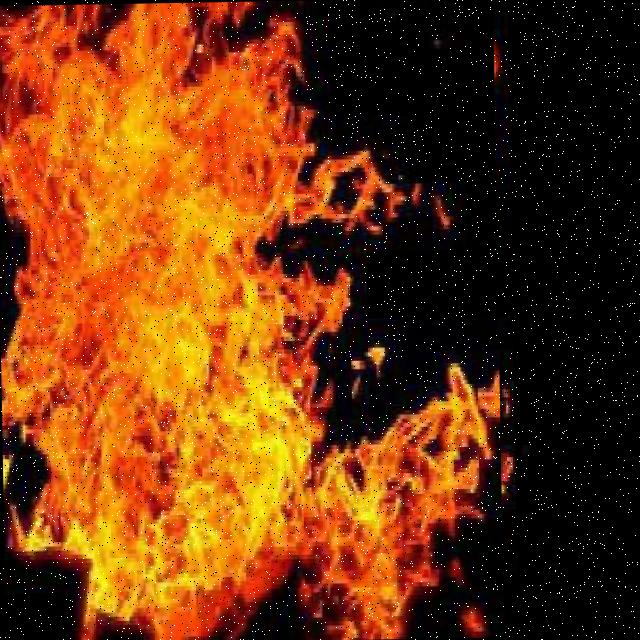fire: (0, 0, 503, 640)
